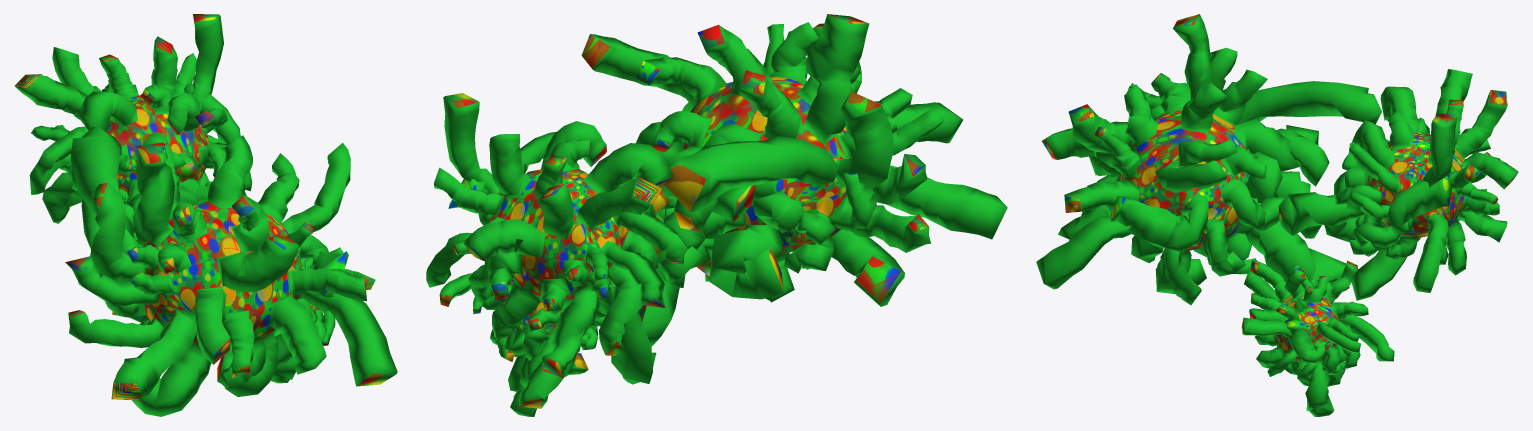
File: Virus2.gltf
3 views of the same model, side by side, from view 1: azimuth 30°, elevation 25°; view 2: azimuth 150°, elevation 25°; view 3: azimuth 270°, elevation 25° (orthographic). The views are drawn at different scales.
Parts seen in each view (by area): view 1: Sphere; view 2: Sphere; view 3: Sphere.
Boxes of the visible parts, left/top/right/bottom form: Sphere: left=14, top=14, right=397, bottom=416; Sphere: left=426, top=14, right=1007, bottom=416; Sphere: left=1036, top=14, right=1518, bottom=416.
Size of the model in its own units: 0.8791 by 0.8237 by 1.17.
3 materials, 3 textured.
